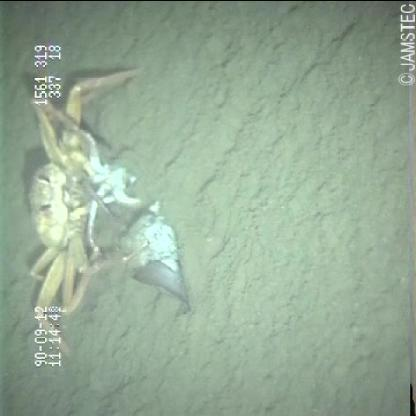Bio: (19, 51, 198, 364)
